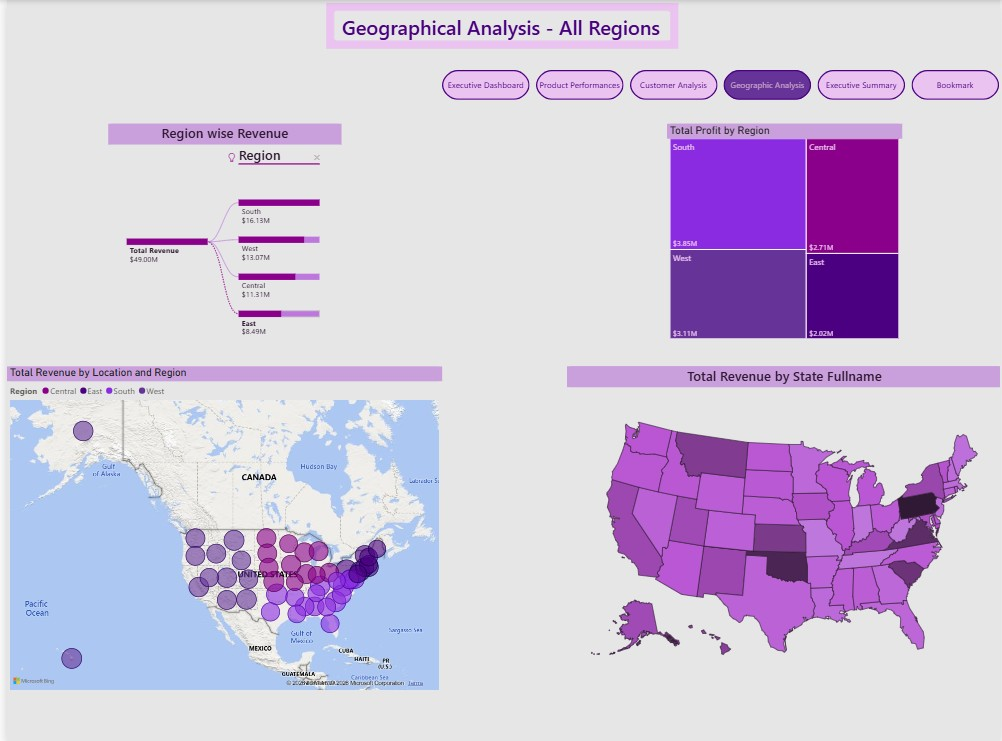

Layout of this report page (visuals, bound fields, positions):
{"tool":"powerbi","page":{"name":"Geographic Analysis","canvas":[1600,1200],"ordinal":3},"visuals":[{"type":"decompositionTreeVisual","title":"Region wise Revenue","fields":{"ExplainBy":["Customer.Region"],"Analyze":["Sales.Total Revenue"]},"box":[163.5,198.4,375.3,351.2],"z":0},{"type":"shapeMap","fields":{"Category":["Customer.State Fullname"],"Value":["Sales.Total Revenue"]},"box":[900.8,589.8,699.7,525.5],"z":1000},{"type":"treemap","fields":{"Values":["Sales.Total Profit"],"Group":["Customer.Region"]},"box":[1061.7,198.4,378,351.2],"z":2000},{"type":"map","fields":{"Size":["Sales.Total Revenue"],"Series":["Customer.Region"],"Category":["Customer.Location"]},"box":[0,589.8,699.7,525.5],"z":3000},{"type":"pageNavigator","box":[699.7,112.6,900.8,48.3],"z":4000},{"type":"cardVisual","fields":{"Data":["Sales.Dashboard Title Region"]},"box":[509.4,0,576.4,83.1],"z":5000}]}

Visuals, with their boxes in screenshot pixels (x1, y1, x2, y2), scaled from the page's 1600x1200 canvas onto the 1002x741 screenshot:
"Region wise Revenue" decompositionTreeVisual: x1=102, y1=123, x2=337, y2=339
shapeMap - Customer.State Fullname x Sales.Total Revenue: x1=564, y1=364, x2=1001, y2=689
treemap - Sales.Total Profit x Customer.Region: x1=665, y1=123, x2=902, y2=339
map - Sales.Total Revenue x Customer.Region: x1=0, y1=364, x2=438, y2=689
pageNavigator: x1=438, y1=70, x2=1001, y2=99
cardVisual - Sales.Dashboard Title Region: x1=319, y1=0, x2=680, y2=51
